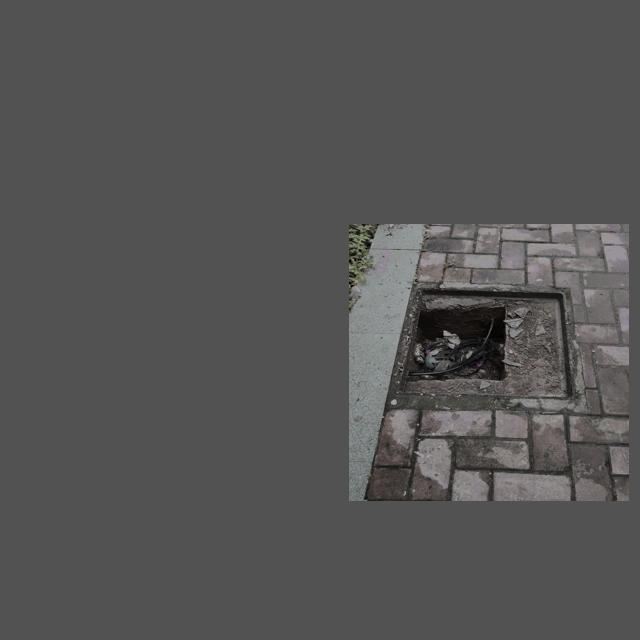broke: (392, 286, 578, 398)
